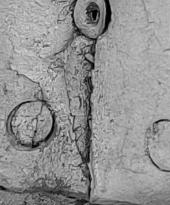crack: (1, 1, 170, 205)
